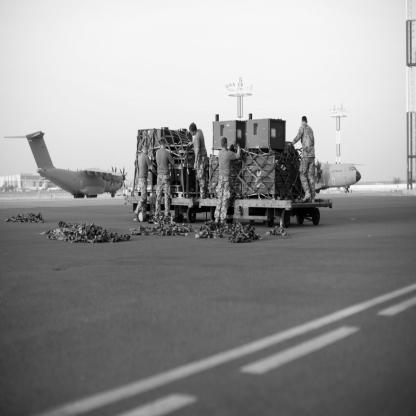A400M: (3, 131, 129, 199), (308, 159, 366, 195)
